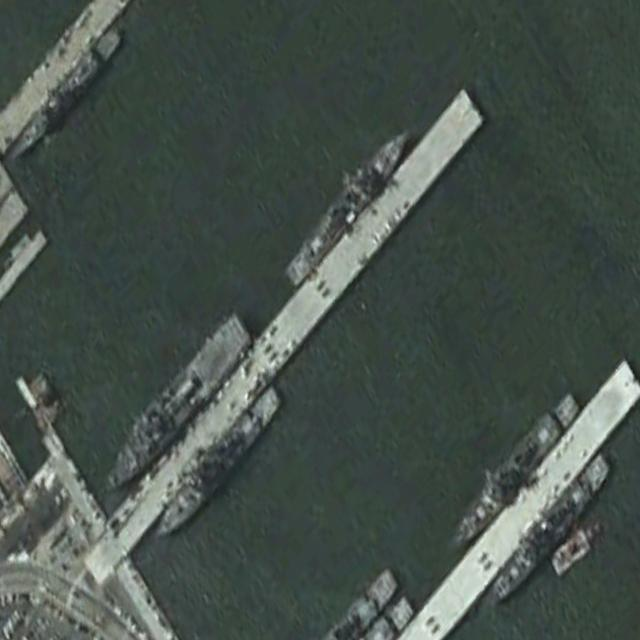Destroyer: (443, 386, 582, 558), (280, 118, 415, 292), (478, 447, 616, 616)
Landing: (92, 308, 255, 510)
Other Warship: (145, 372, 286, 555), (5, 24, 122, 167)
